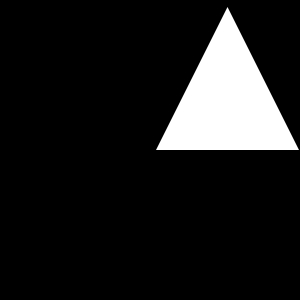triangle: (156, 7, 299, 150)
